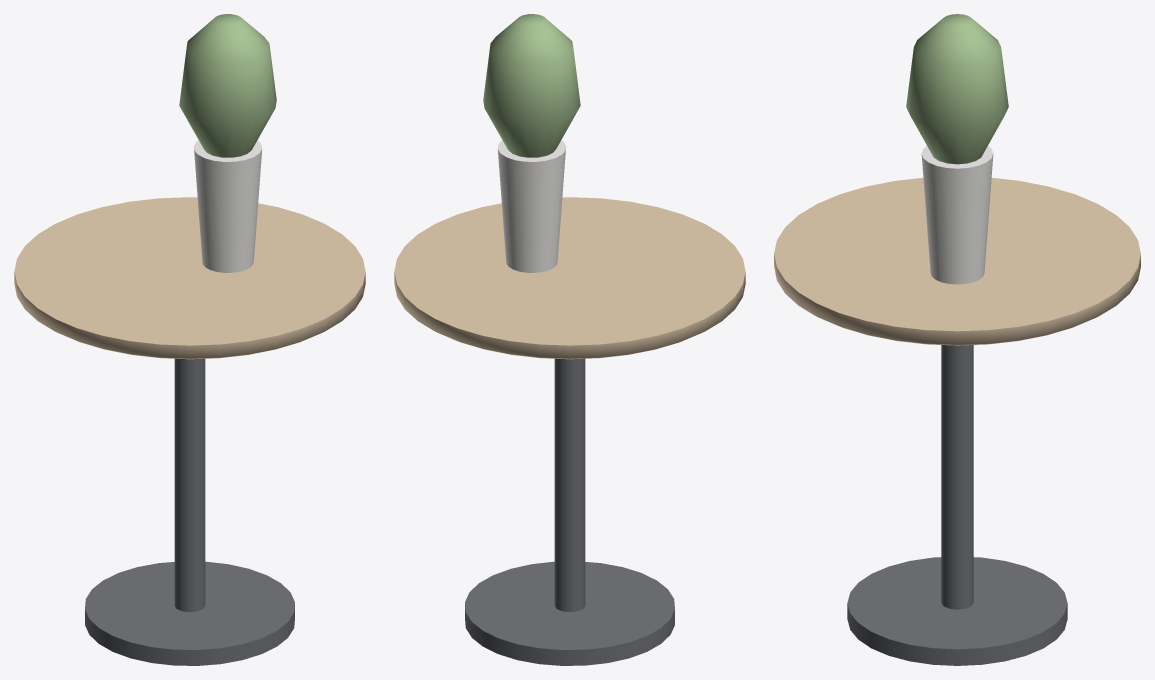
3 renders of one model, left to right at view 1: azimuth 30°, elevation 25°; view 2: azimuth 150°, elevation 25°; view 3: azimuth 270°, elevation 25°, orthographic. The views are drawn at different scales.
Visible parts, largest first — view 1: Bàn góc sofa Rộng=500; Sâu=500; view 2: Bàn góc sofa Rộng=500; Sâu=500; view 3: Bàn góc sofa Rộng=500; Sâu=500.
Part boxes in pixels (x1=…): Bàn góc sofa Rộng=500; Sâu=500: x1=14, y1=14, x2=365, y2=665; Bàn góc sofa Rộng=500; Sâu=500: x1=394, y1=14, x2=745, y2=665; Bàn góc sofa Rộng=500; Sâu=500: x1=774, y1=14, x2=1140, y2=665.
Size of the model in its own units: 0.5 by 0.93 by 0.5.
